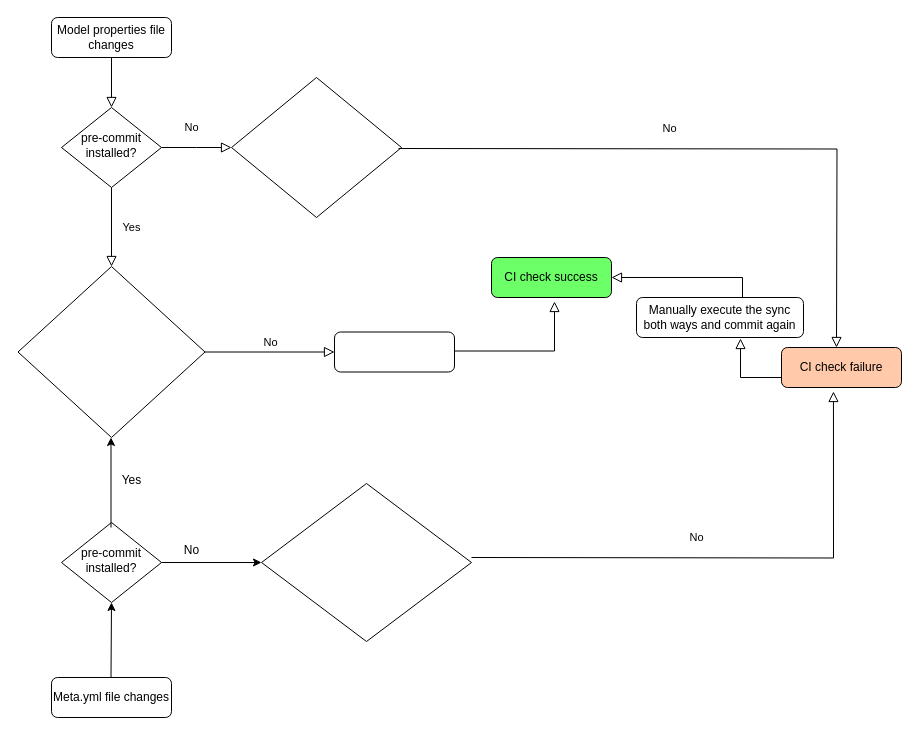
Image size: 919x735. Some labels were removed from this diagram. The shapes that lost their labels are listed below. From the top down, each one's centre as x and y in pixels, then its label:
[316,147]: CI check to validate if meta.yml is in sync with model properties files
[111,352]: pre-commit to validate if meta.yml is in sync with model properties files
[394,351]: Sync meta.yml and model properties files
[366,562]: CI check to validate if model properties files are in sync with meta.yml
